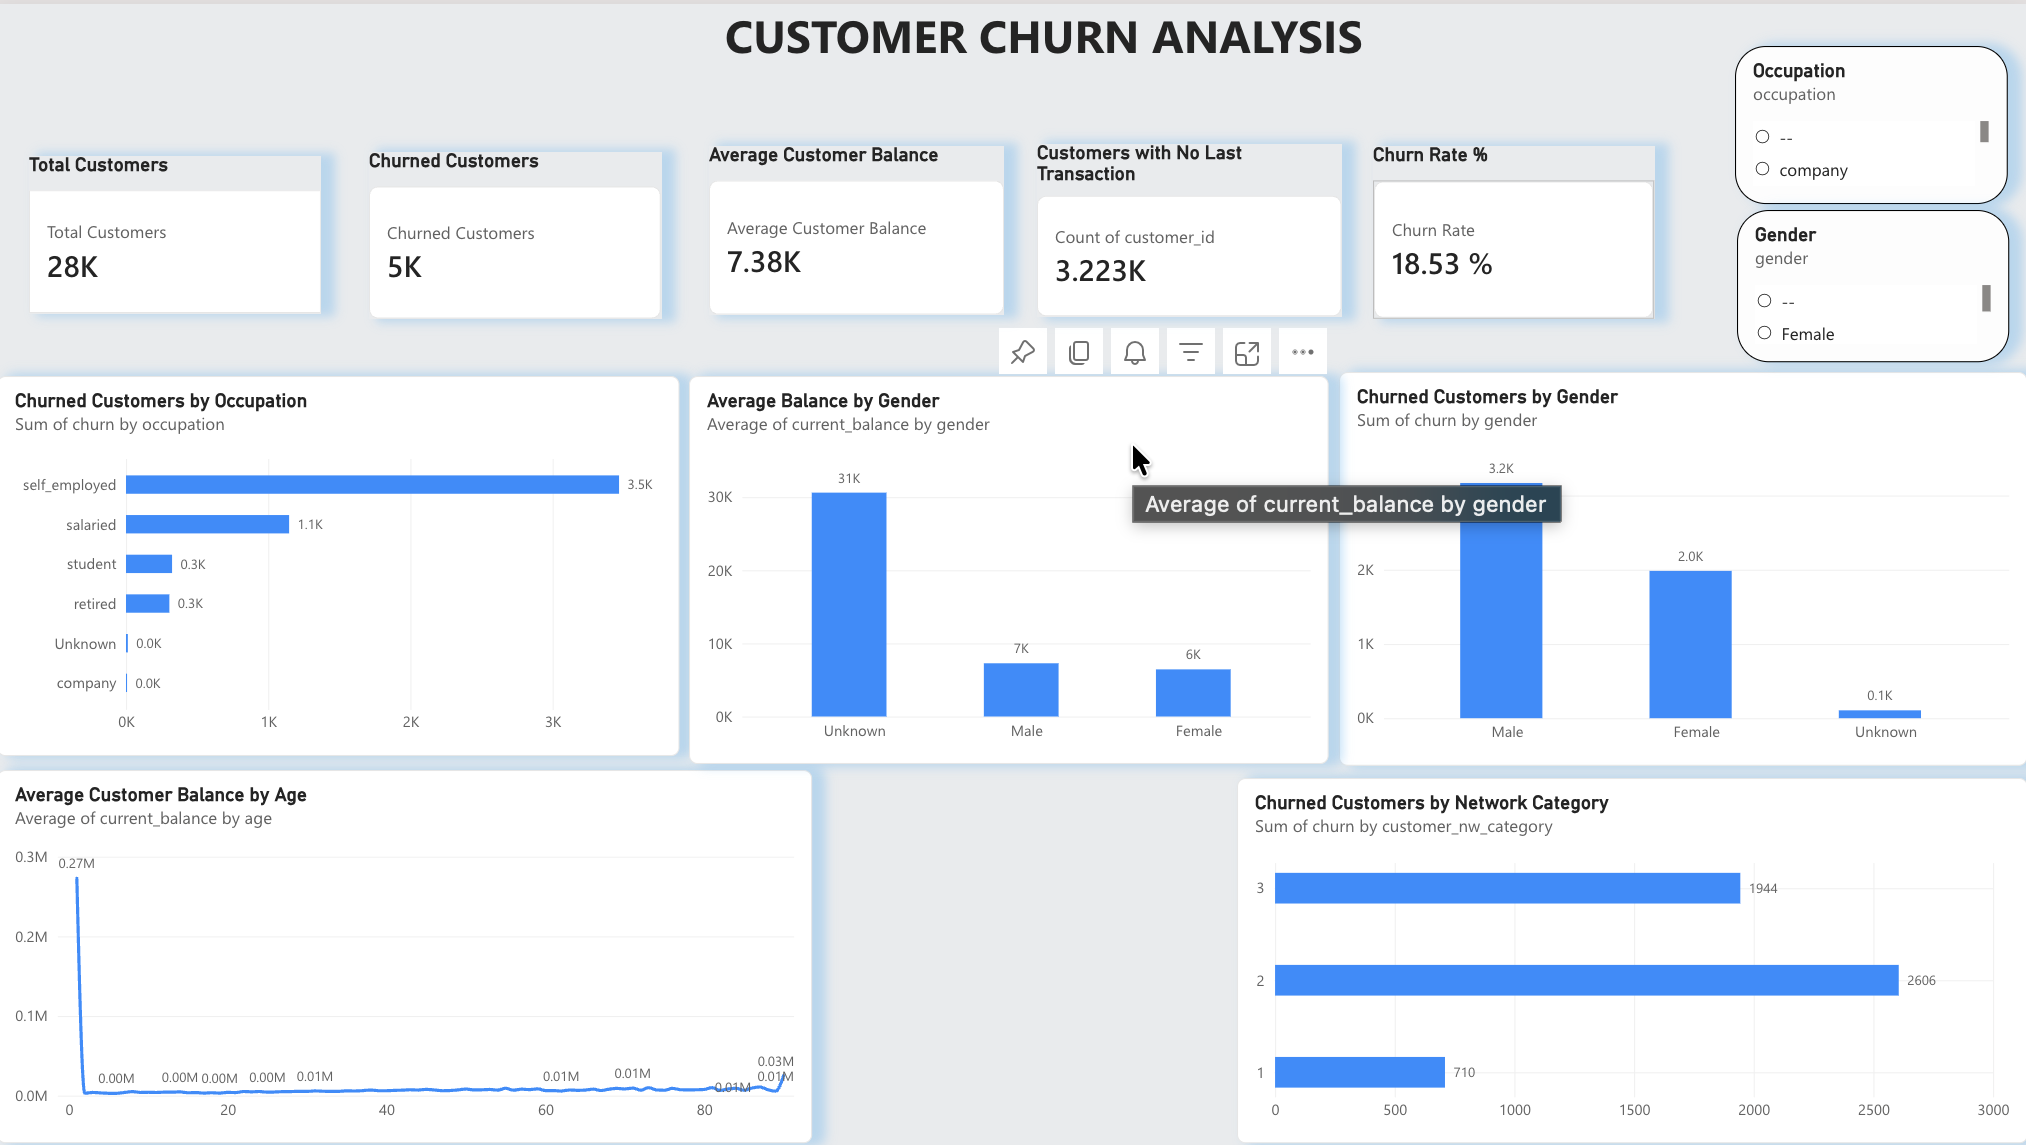

What the dashboard file says about the page in this screenshot:
{"tool":"powerbi","page":{"name":"Page 1","canvas":[1920,1080],"ordinal":0},"visuals":[{"type":"textbox","box":[688.8,0,625.2,58.3],"z":0},{"type":"clusteredBarChart","title":"Churned Customers by Occupation","fields":{"Category":["churn_prediction.occupation"],"Y":["Sum(churn_prediction.churn)"]},"box":[0,352.4,645.3,359.3],"z":1000},{"type":"clusteredColumnChart","title":"Churned Customers by Gender","fields":{"Category":["churn_prediction.gender"],"Y":["Sum(churn_prediction.churn)"]},"box":[1269.1,348.4,650.9,372.4],"z":2000},{"type":"lineChart","title":"Average Customer Balance by Age","fields":{"Category":["churn_prediction.age"],"Y":["Avg(churn_prediction.current_balance)"]},"box":[0,724.8,771,353],"z":3000},{"type":"clusteredBarChart","title":"Churned Customers by Network Category","fields":{"Category":["churn_prediction.customer_nw_category"],"Y":["Sum(churn_prediction.churn)"]},"box":[1171.9,732.3,748.1,345.6],"z":4000},{"type":"clusteredColumnChart","title":"Average Balance by Gender","fields":{"Category":["churn_prediction.gender"],"Y":["Avg(churn_prediction.current_balance)"]},"box":[654.5,352.4,605.1,367.1],"z":5000},{"type":"cardVisual","title":"Total Customers","fields":{"Data":["churn_prediction.Total Customers"]},"box":[29.7,143.1,276.5,149],"z":6000},{"type":"cardVisual","title":"Churned Customers","fields":{"Data":["churn_prediction.Churned Customers"]},"box":[352.7,139.6,276.9,157.8],"z":7000},{"type":"cardVisual","title":"Average Customer Balance","fields":{"Data":["churn_prediction.Average Customer Balance"]},"box":[672.8,135,279.1,160.2],"z":8000},{"type":"cardVisual","title":"Customers with No Last Transaction","fields":{"Data":["Count(churn_prediction.customer_id)"]},"box":[984,132.7,288.7,164],"z":9000},{"type":"listSlicer","title":"Occupation","fields":{"Values":["churn_prediction.occupation"]},"box":[1643.1,38.9,257.8,149.7],"z":10000},{"type":"listSlicer","title":"Gender","fields":{"Values":["churn_prediction.gender"]},"box":[1646.5,194.5,257.5,143.8],"z":11000},{"type":"cardVisual","title":"Churn Rate %","fields":{"Data":["churn_prediction.Churn Rate"]},"box":[1302.1,135,266.9,164.2],"z":12000}]}

Visuals, with their boxes in screenshot pixels (x1, y1, x2, y2), scaled from the page's 1920x1080 canvas onto the 2026x1145 screenshot:
textbox: BBox(727, 0, 1387, 62)
"Churned Customers by Occupation" clusteredBarChart: BBox(0, 374, 681, 755)
"Churned Customers by Gender" clusteredColumnChart: BBox(1339, 369, 2025, 764)
"Average Customer Balance by Age" lineChart: BBox(0, 768, 814, 1143)
"Churned Customers by Network Category" clusteredBarChart: BBox(1237, 776, 2025, 1143)
"Average Balance by Gender" clusteredColumnChart: BBox(691, 374, 1329, 763)
"Total Customers" cardVisual: BBox(31, 152, 323, 310)
"Churned Customers" cardVisual: BBox(372, 148, 664, 315)
"Average Customer Balance" cardVisual: BBox(710, 143, 1004, 313)
"Customers with No Last Transaction" cardVisual: BBox(1038, 141, 1343, 315)
"Occupation" listSlicer: BBox(1734, 41, 2006, 200)
"Gender" listSlicer: BBox(1737, 206, 2009, 359)
"Churn Rate %" cardVisual: BBox(1374, 143, 1656, 317)
